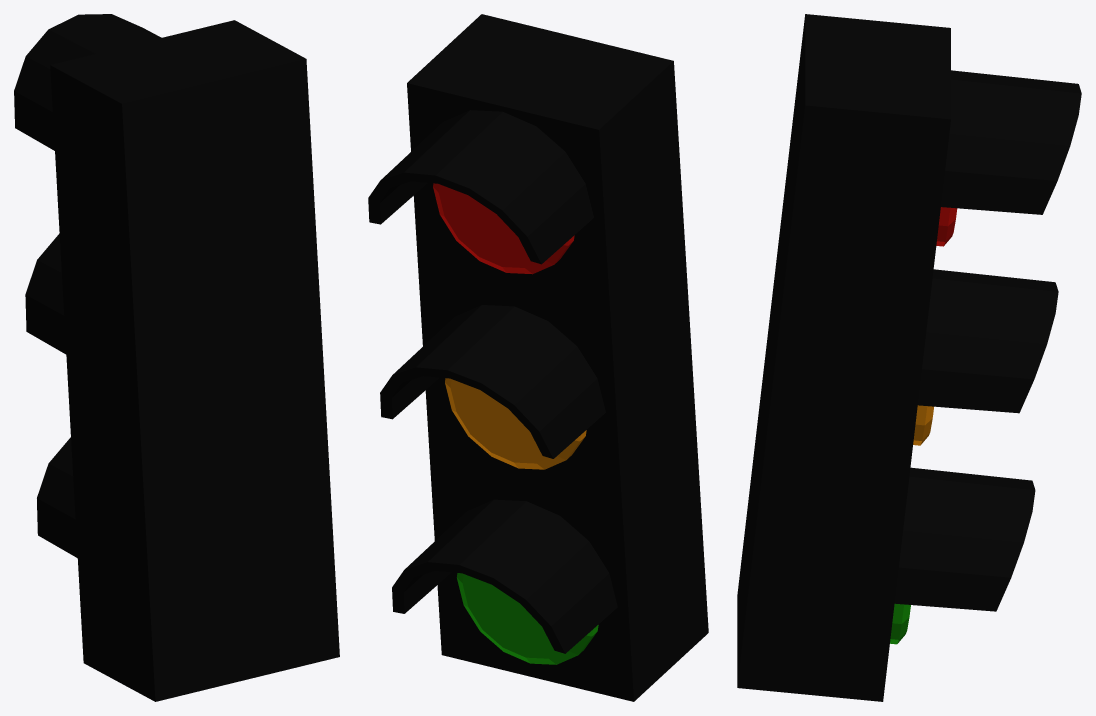
Rendered from traffic_light.fbx.
The picture shows the model from 3 angles, left to right: view 1: azimuth 30°, elevation 25°; view 2: azimuth 150°, elevation 25°; view 3: azimuth 270°, elevation 25°; orthographic projection. The views are drawn at different scales.
Visible parts, largest first — view 1: semafor; view 2: semafor; view 3: semafor.
Part boxes in pixels (x1,y1,x2,y2): semafor: (14, 14, 339, 701); semafor: (368, 14, 708, 701); semafor: (737, 14, 1081, 701).
Size of the model in its own units: 46.97 by 29.5 by 89.73.
4 materials, 1 textured.
